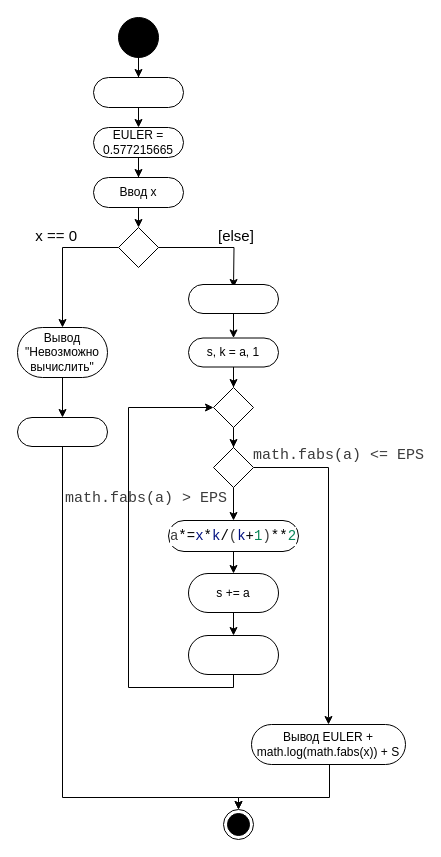
The diagram is 441 pixels wide and 857 high, and some of its shapes have lost their labels. The shapes that lost their labels are listed below. From the top down, each one's centre as x and y in pixels, then its label:
point 138,92: EPS = 1e-10
point 233,299: a = x
point 62,431: exit(1)
point 233,654: k += 1
